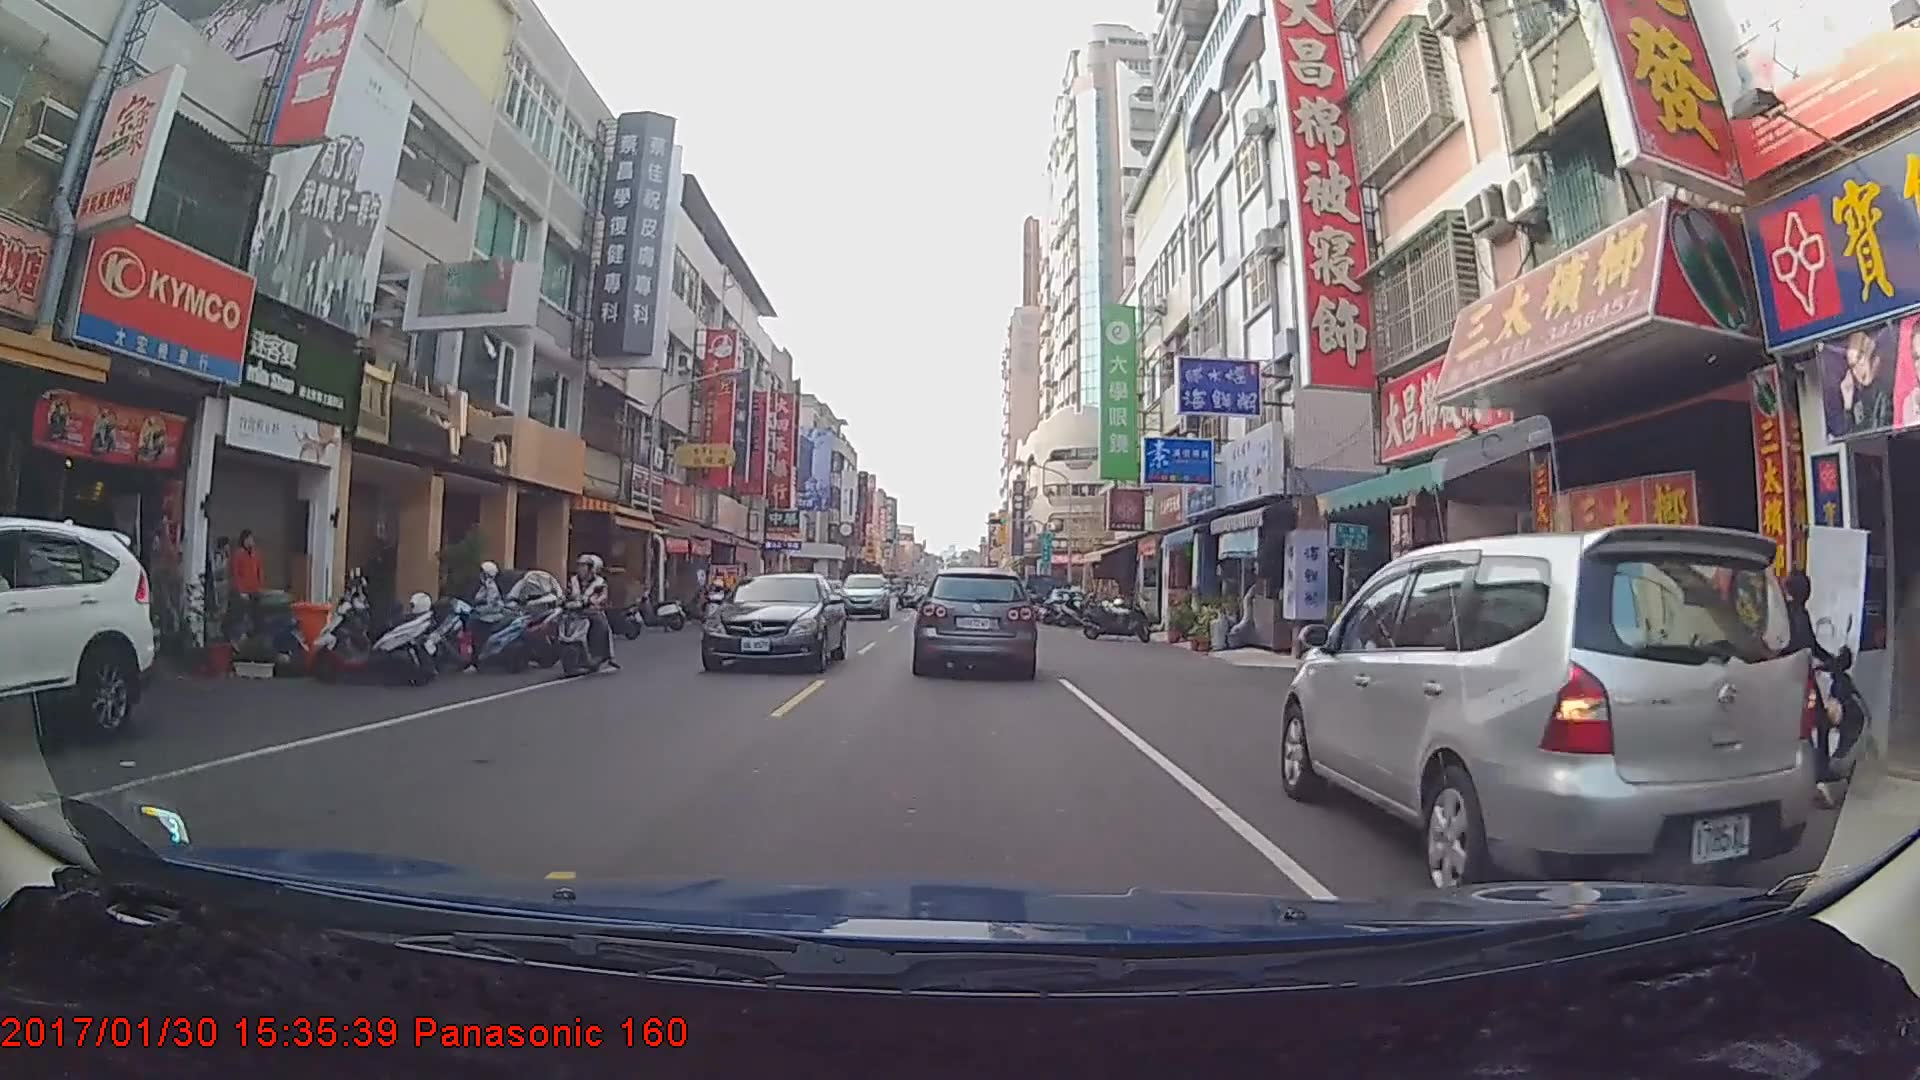pedestrian: (226, 524, 272, 641), (204, 525, 235, 634)
rider: (1678, 560, 1901, 816), (552, 547, 619, 680)
vehicle: (1280, 525, 1826, 901), (0, 515, 156, 764), (699, 570, 846, 672), (913, 566, 1036, 677), (837, 572, 891, 619)
